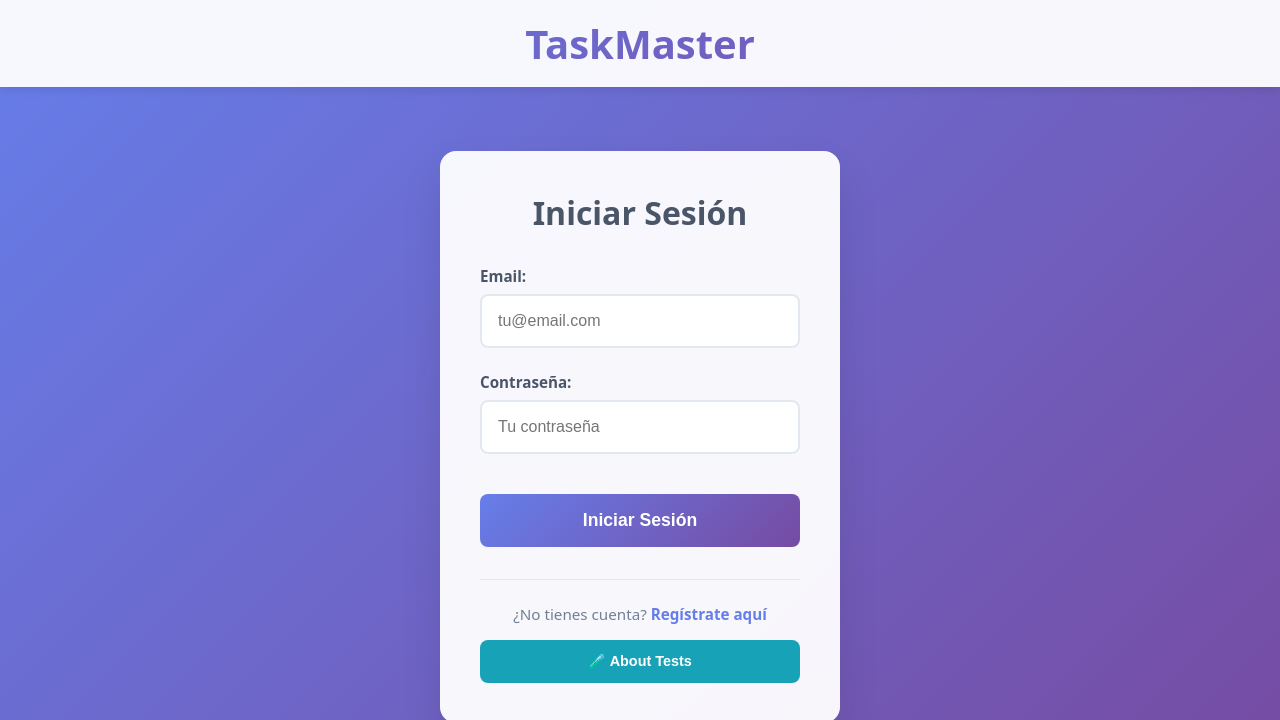
Test case: Autenticación de Usuarios › Inicio de Sesión › debería permitir iniciar sesión exitosamente
This screenshot has width=1280, height=720.
Expected: the heading "Iniciar Sesión" is shown, [533,191,747,234]
Note: Llenar formulario de login
Type "test@taskmaster.com" into the field with test id "email-input".
click(640, 321); type("test@taskmaster.com")  # box [480,294,800,348]
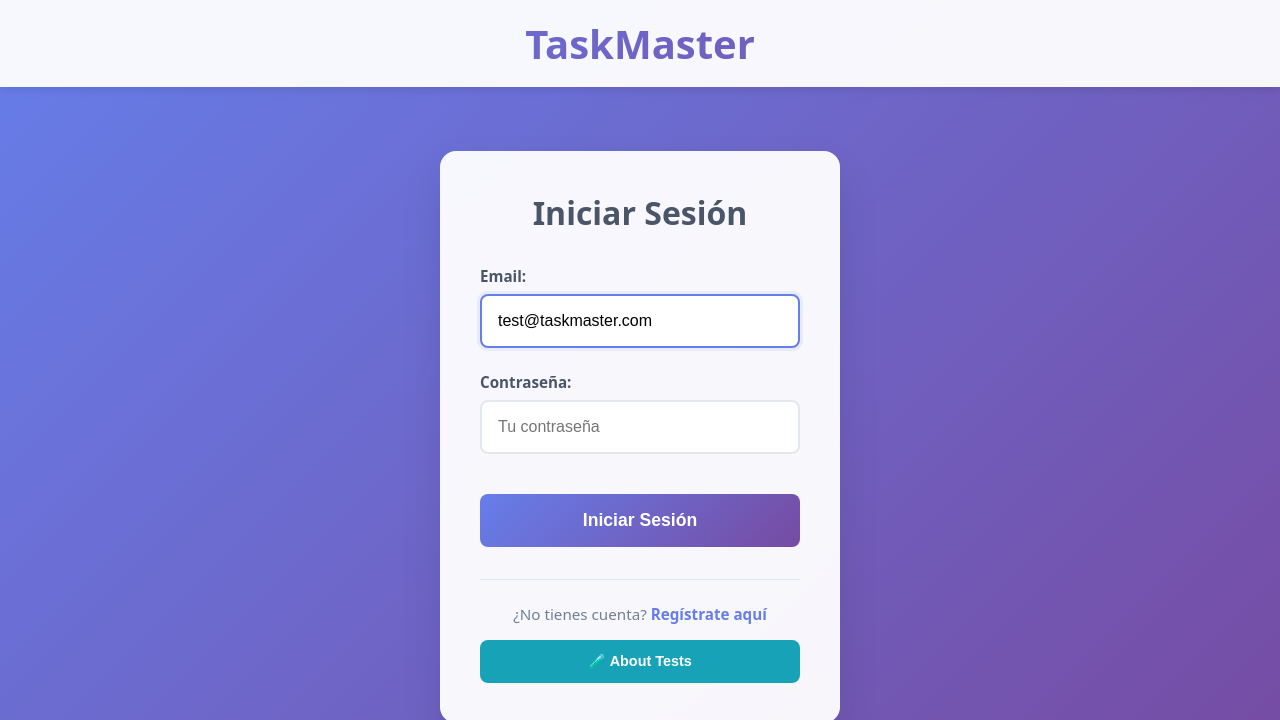
Type "password123" into the password field with test id "password-input".
click(640, 427); type("password123")  # box [480,400,800,454]
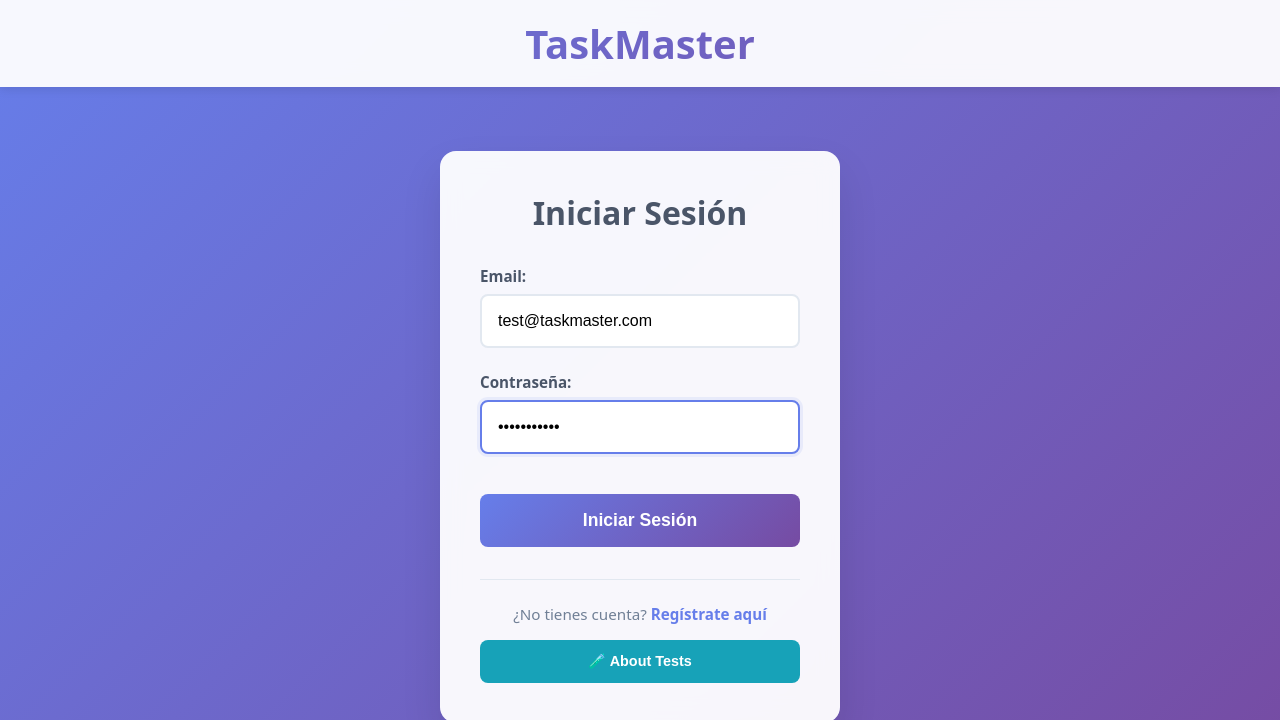
Note: Enviar formulario
Click the button with test id "login-button".
click(640, 521)  # box [480,494,800,547]
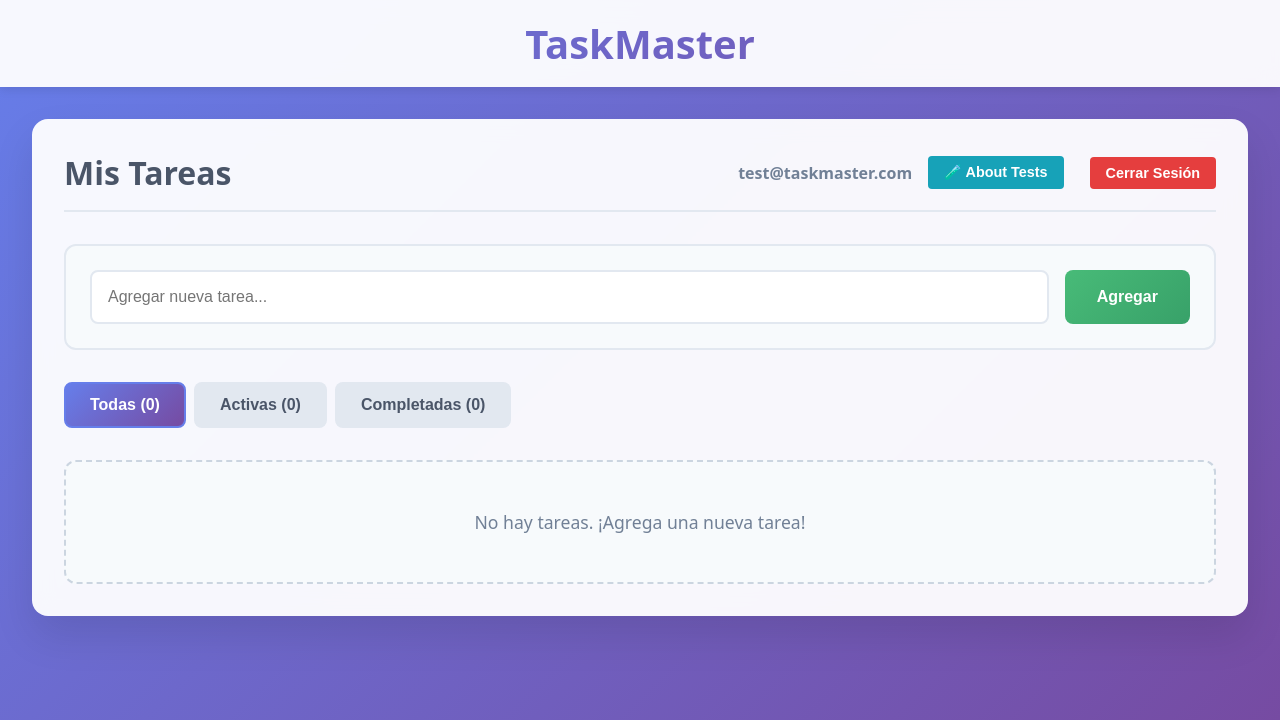
Result: the heading "Mis Tareas" is shown at [64,151,232,194]
Result: the text with test id "user-email" reads "test@taskmaster.com" at [738,162,912,184]
